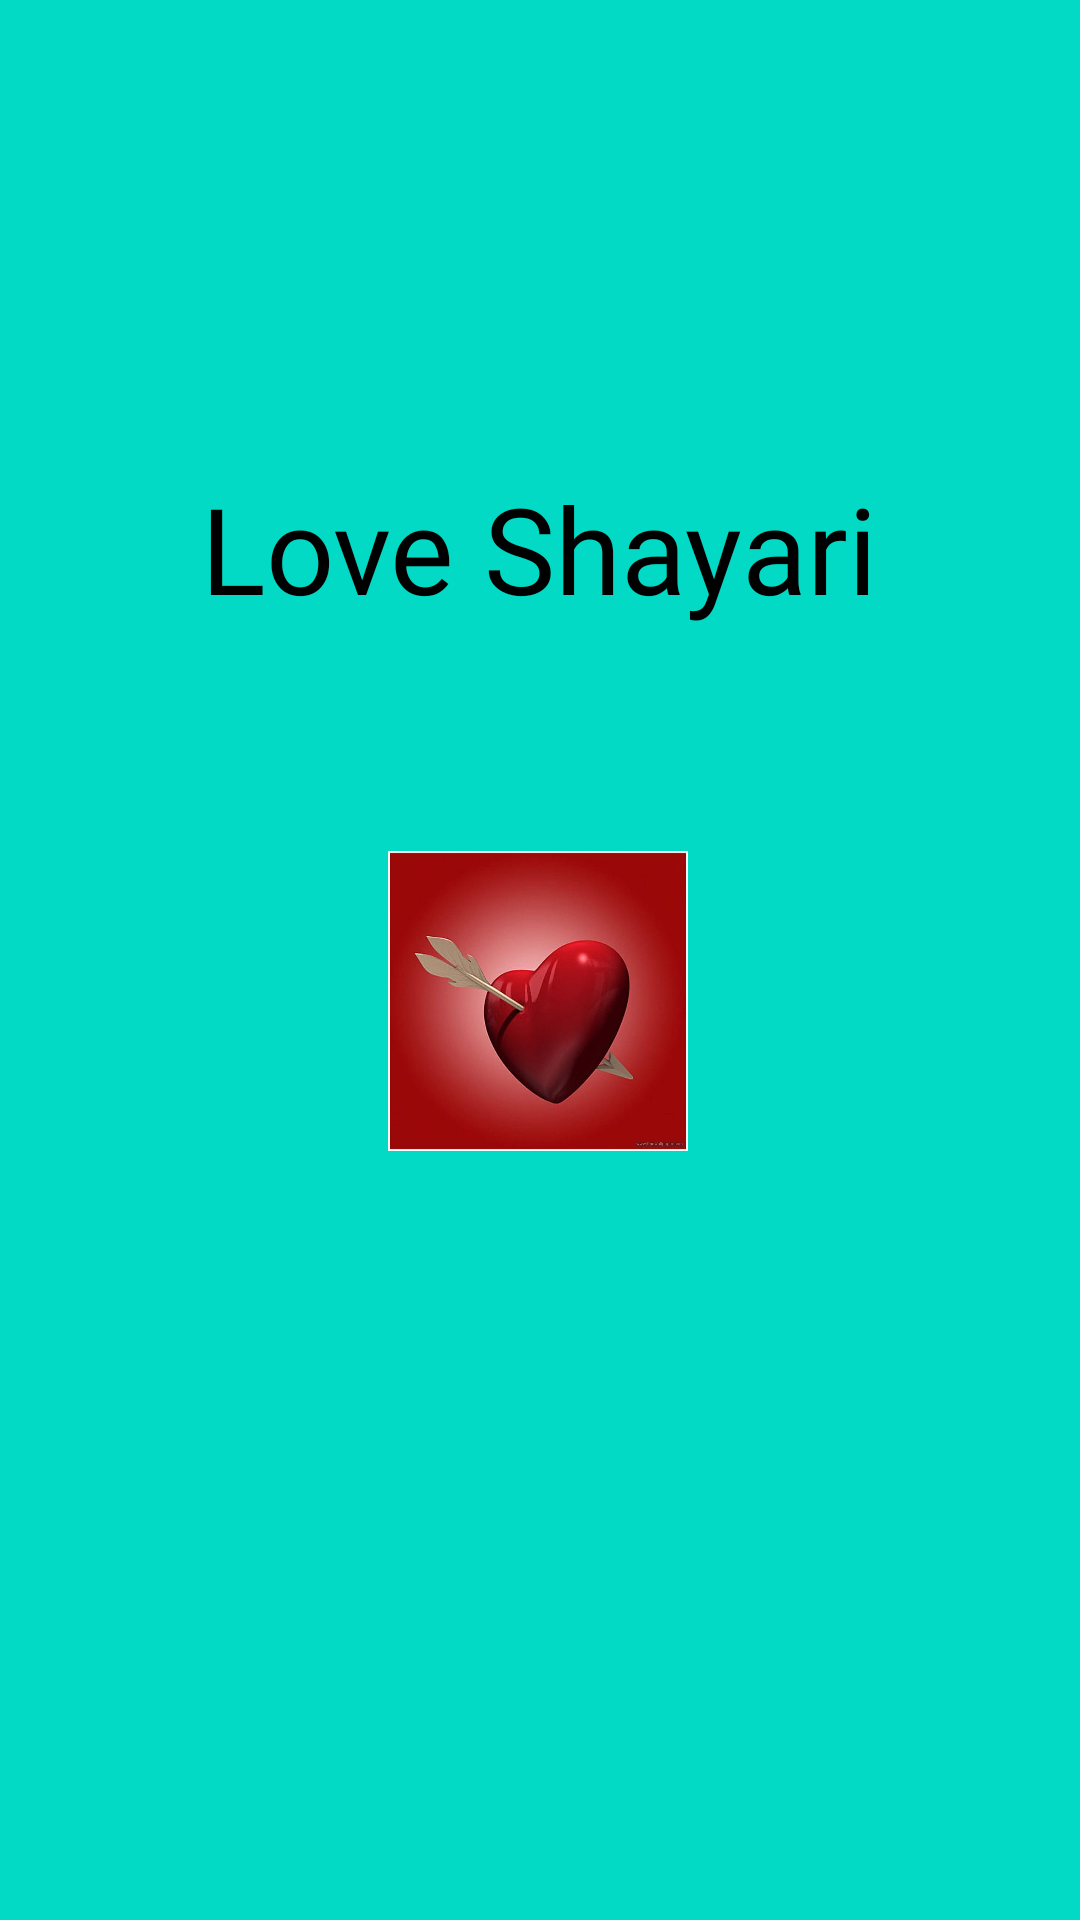

Locate icon controls on the screen. Image size 1080x1920, boxes as [x1,y1,x2,y2].
heart love: [388,851,688,1151]
